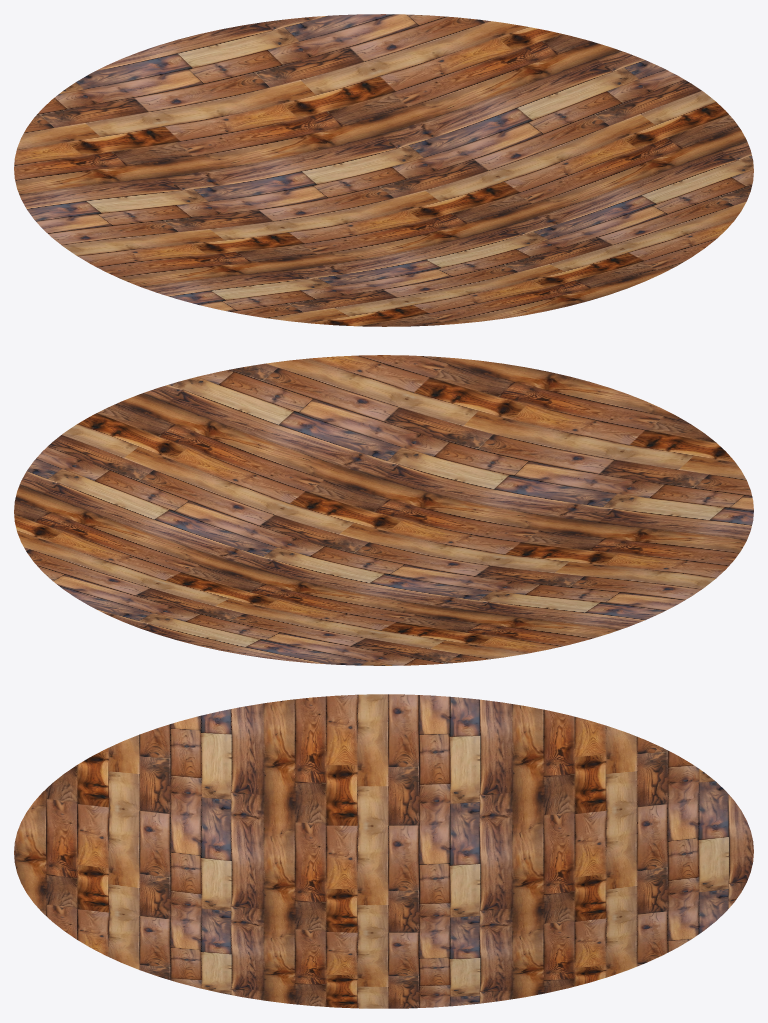
File: old_tile_wooden_floor_texture.glb
The picture shows the model from 3 angles, top to bottom: view 1: azimuth 30°, elevation 25°; view 2: azimuth 150°, elevation 25°; view 3: azimuth 270°, elevation 25°; orthographic projection.
Visible parts, largest first — view 1: Object_2; view 2: Object_2; view 3: Object_2.
Part boxes in pixels (x1,y1,x2,y2): Object_2: [14, 14, 753, 326]; Object_2: [14, 355, 753, 665]; Object_2: [14, 694, 753, 1008].
Size of the model in its own units: 1316 by 67 by 1316.
Materials: 1 (1 with a texture image).
